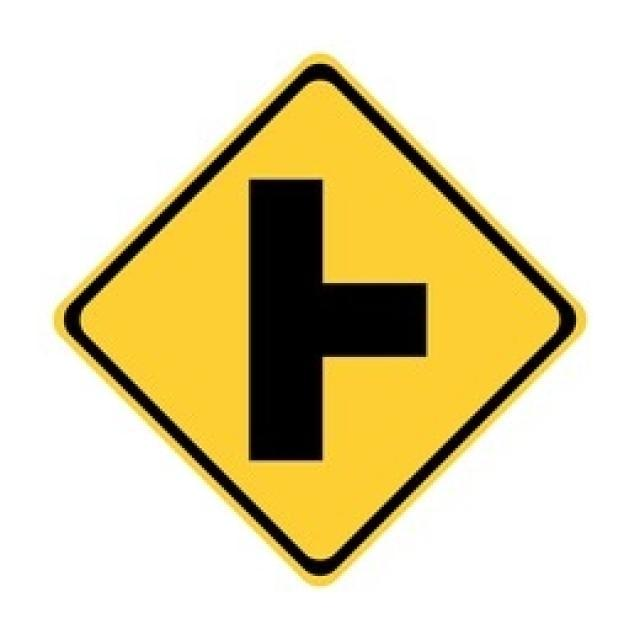side road right: (54, 59, 576, 576)
